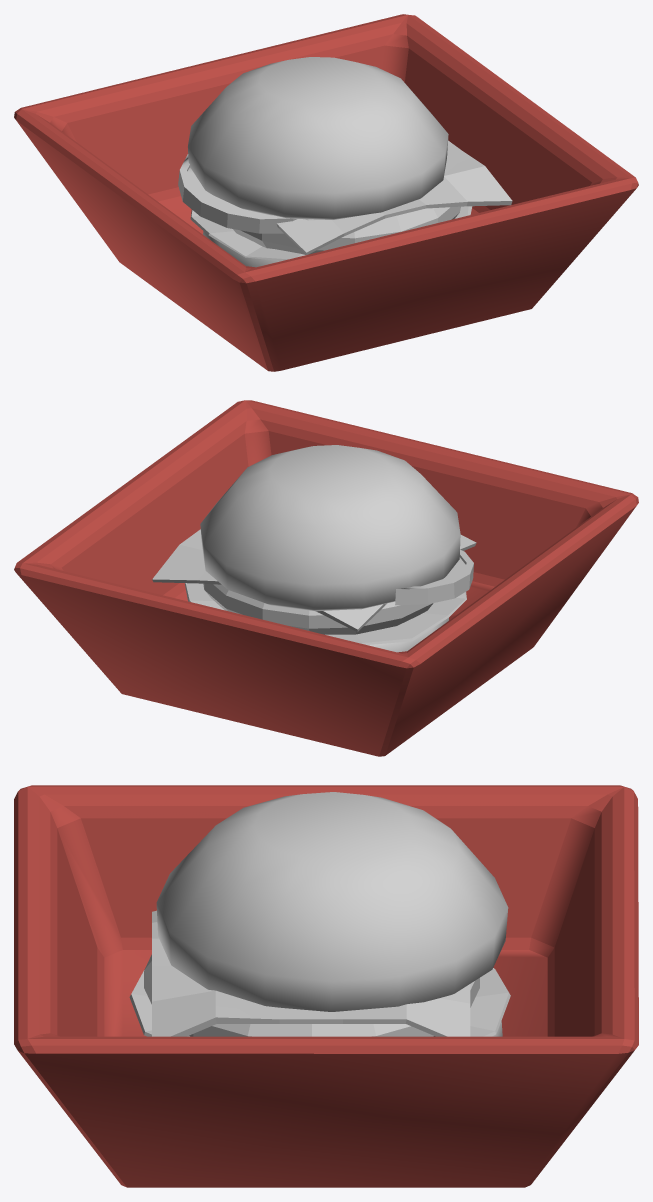
File: burgerfinal.fbx
The picture shows the model from 3 angles, top to bottom: view 1: azimuth 30°, elevation 25°; view 2: azimuth 150°, elevation 25°; view 3: azimuth 270°, elevation 25°; orthographic projection. The views are drawn at different scales.
Visible parts, largest first — view 1: bread2_low.002; view 2: bread2_low.002; view 3: bread2_low.002.
Boxes of the visible parts, box(x1,y1,x2,y2) form: bread2_low.002: box(14, 14, 638, 371); bread2_low.002: box(14, 400, 638, 756); bread2_low.002: box(14, 785, 638, 1187).
Size of the model in its own units: 393 by 393 by 189.
